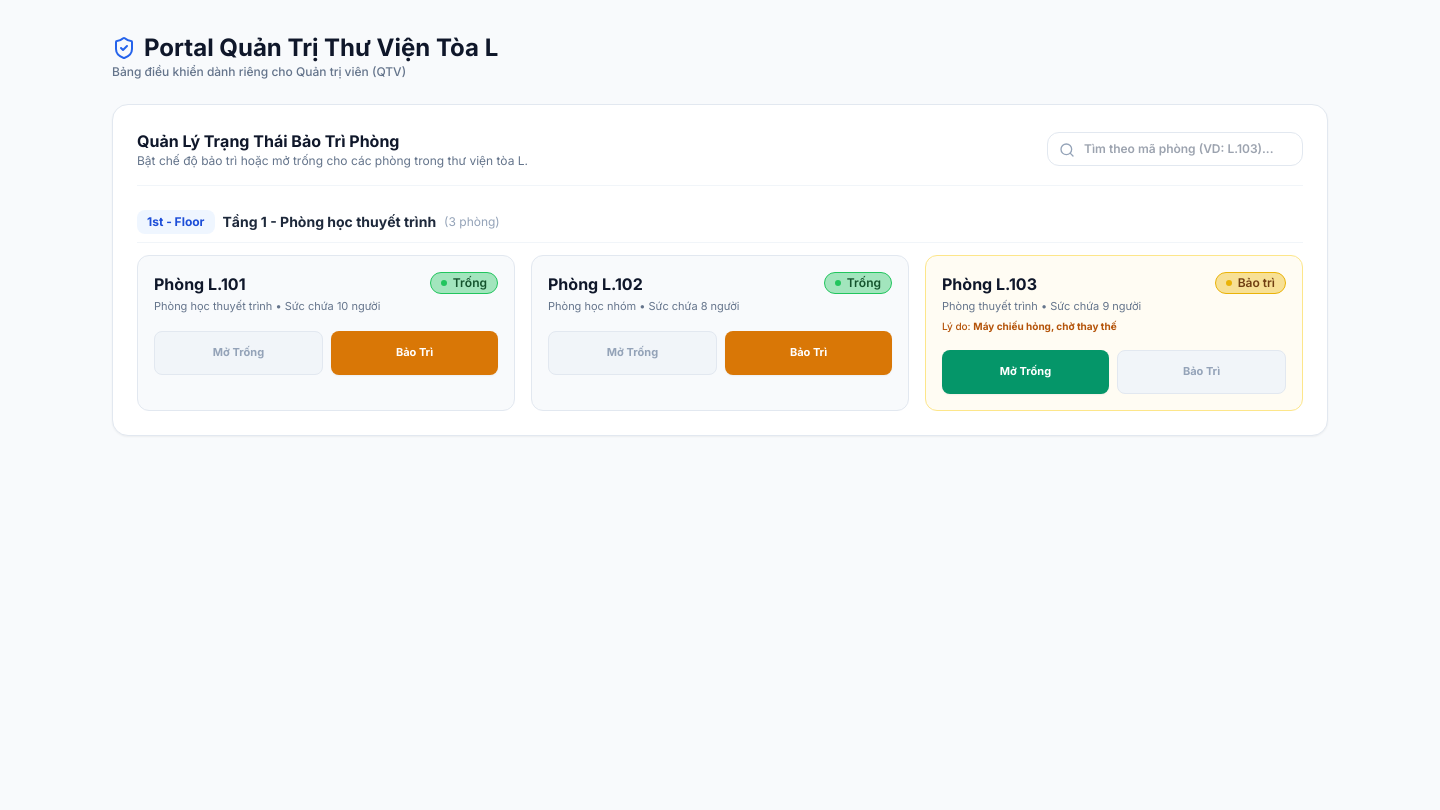
it: AdminDashboardPage - Maintenance Modal & Status Management › phòng có lượt đặt sắp tới hiện dòng cảnh báo "N lượt đặt sẽ bị hủy"
This screenshot has width=1440, height=810.
Expected: the heading "Phòng L.102" is shown, x1=548 y1=272 x2=643 y2=296
Click the button "Bảo Trì" below "Phòng học nhóm": click(808, 352) x1=725 y1=330 x2=892 y2=374
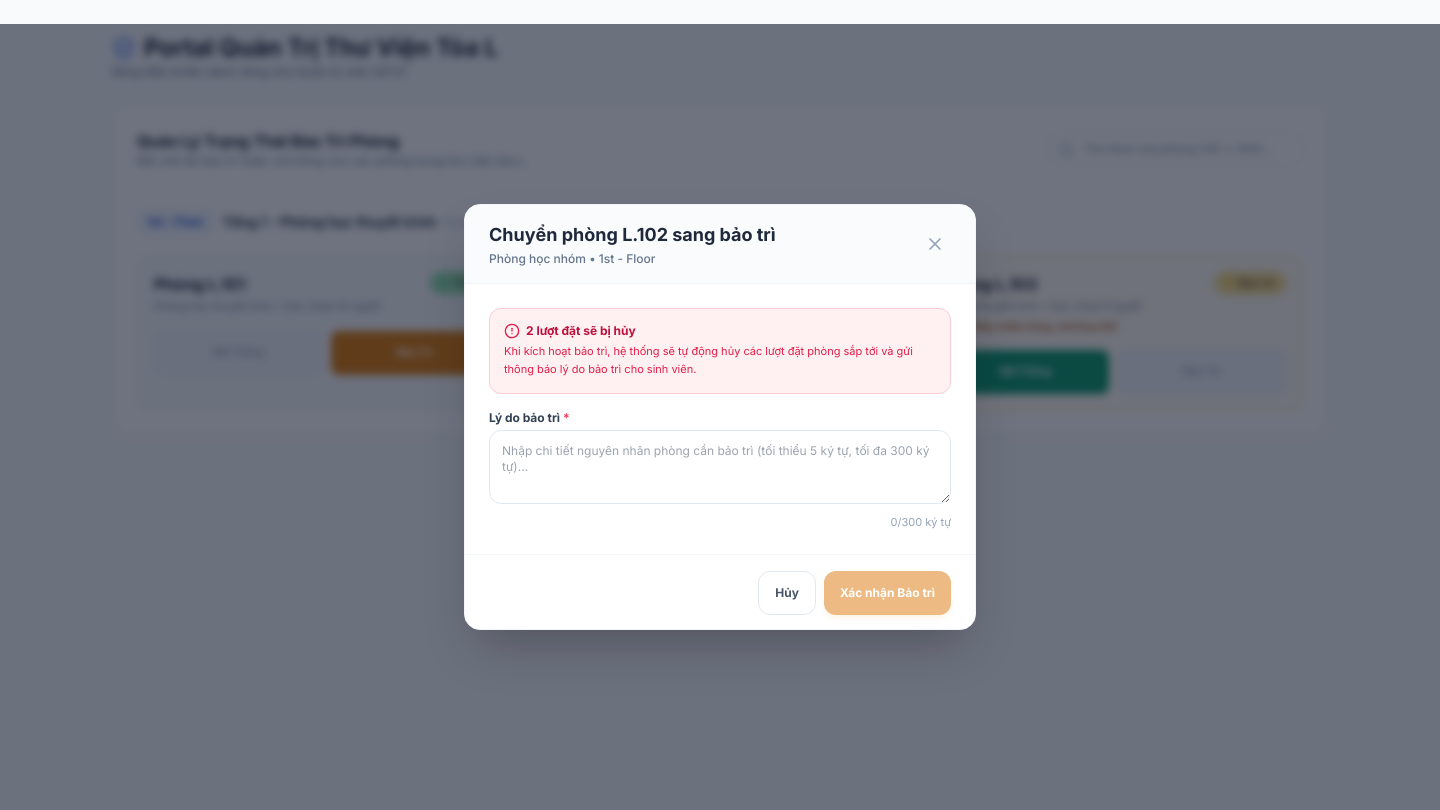
Result: the text "2 lượt đặt sẽ bị hủy" is shown at x1=526 y1=323 x2=636 y2=339
